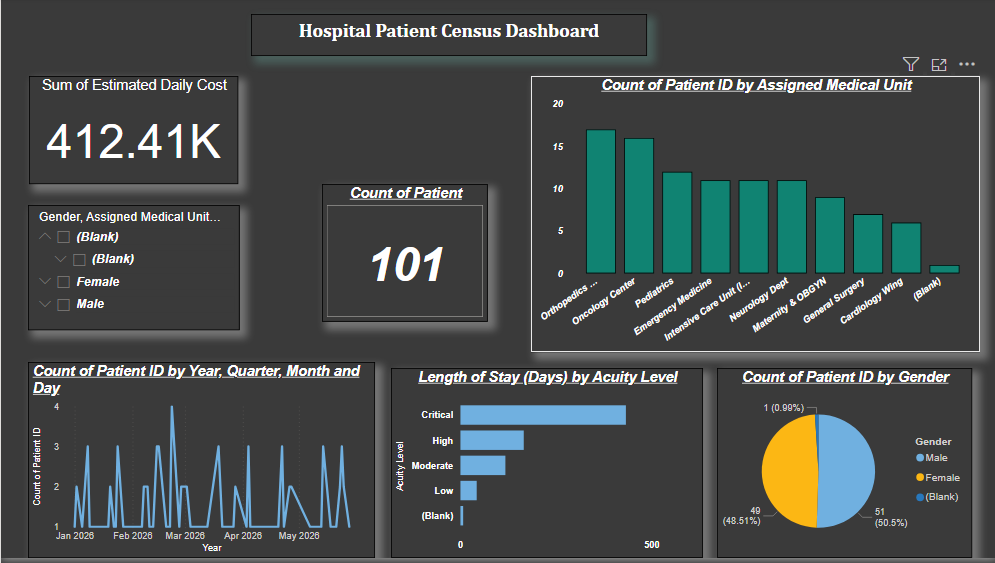

The page's visual inventory and layout, read from the dashboard file:
{"tool":"powerbi","page":{"name":"Page 1","canvas":[1280,720],"ordinal":0},"visuals":[{"type":"card","title":"💰 Total Daily Cost","fields":{"Values":["Sum(Hospital Patient Census.Estimated Daily Cost)"]},"box":[14.6,77.6,239.6,102.4],"z":0},{"type":"clusteredBarChart","fields":{"Category":["Hospital Patient Census.Assigned Medical Unit"],"Y":["CountNonNull(Hospital Patient Census.Patient ID)"]},"box":[734.8,135.6,545.7,279.1],"z":1000},{"type":"donutChart","fields":{"Category":["Hospital Patient Census.Gender"],"Y":["CountNonNull(Hospital Patient Census.Patient ID)"]},"box":[475.5,425.4,361.1,278.9],"z":2000},{"type":"lineChart","fields":{"Y":["CountNonNull(Hospital Patient Census.Patient ID)"],"Category":["Hospital Patient Census.Admission Date.Variation.Date Hierarchy.Year","Hospital Patient Census.Admission Date.Variation.Date Hierarchy.Quarter","Hospital Patient Census.Admission Date.Variation.Date Hierarchy.Month","Hospital Patient Census.Admission Date.Variation.Date Hierarchy.Day"]},"box":[0,425.4,461.4,278.9],"z":3000},{"type":"clusteredColumnChart","title":"Length of Stay (Days) by Acuity Level","fields":{"Category":["Hospital Patient Census.Acuity Level"],"Y":["Sum(Hospital Patient Census.Length of Stay (Days))"]},"box":[845.6,425.4,425.4,278.9],"z":4000},{"type":"slicer","title":"Filter Patients","fields":{"Values":["Hospital Patient Census.Gender","Hospital Patient Census.Assigned Medical Unit","Hospital Patient Census.Insurance Verified","Hospital Patient Census.Admission Date"]},"box":[14.6,200.2,216,199.1],"z":5000},{"type":"textbox","box":[0,0,640.3,77.5],"z":6000},{"type":"card","title":"👨🏽🤝👨🏽 Count of Patient","fields":{"Values":["CountNonNull(Hospital Patient Census.Patient ID)"]},"box":[780.8,14.6,168.8,106.9],"z":7000},{"type":"image","box":[23.1,0,68.1,69.4],"z":8000},{"type":"card","title":"📆  Average Length of Stay","fields":{"Values":["Sum(Hospital Patient Census.Length of Stay (Days))"]},"box":[985.5,14.6,238.5,106.9],"z":9000},{"type":"card","title":"Total Admission","fields":{"Values":["Count(Hospital Patient Census.Admission Date)"]},"box":[264.4,77.6,177.8,102.4],"z":10000},{"type":"card","title":"🏣 Total Medical Units","fields":{"Values":["Count(Hospital Patient Census.Assigned Medical Unit)"]},"box":[474.8,77.6,196.9,102.4],"z":11000},{"type":"slicer","title":"Admission Date","fields":{"Values":["Hospital Patient Census.Admission Date"]},"box":[254.2,200.2,187.9,199.1],"z":12000},{"type":"textbox","box":[461.2,200.2,252,199.1],"z":13000}]}

Visuals, with their boxes in screenshot pixels (x1, y1, x2, y2), scaled from the page's 1280x720 canvas onto the 995x563 screenshot:
"💰 Total Daily Cost" card: [x1=11, y1=61, x2=198, y2=141]
clusteredBarChart - Hospital Patient Census.Assigned Medical Unit x CountNonNull(Hospital Patient Census.Patient ID): [x1=571, y1=106, x2=994, y2=324]
donutChart - Hospital Patient Census.Gender x CountNonNull(Hospital Patient Census.Patient ID): [x1=370, y1=333, x2=650, y2=551]
lineChart - CountNonNull(Hospital Patient Census.Patient ID) x Hospital Patient Census.Admission Date.Variation.Date Hierarchy.Year: [x1=0, y1=333, x2=359, y2=551]
"Length of Stay (Days) by Acuity Level" clusteredColumnChart: [x1=657, y1=333, x2=988, y2=551]
"Filter Patients" slicer: [x1=11, y1=157, x2=179, y2=312]
textbox: [x1=0, y1=0, x2=498, y2=61]
"👨🏽🤝👨🏽 Count of Patient" card: [x1=607, y1=11, x2=738, y2=95]
image: [x1=18, y1=0, x2=71, y2=54]
"📆  Average Length of Stay" card: [x1=766, y1=11, x2=951, y2=95]
"Total Admission" card: [x1=206, y1=61, x2=344, y2=141]
"🏣 Total Medical Units" card: [x1=369, y1=61, x2=522, y2=141]
"Admission Date" slicer: [x1=198, y1=157, x2=344, y2=312]
textbox: [x1=359, y1=157, x2=554, y2=312]
